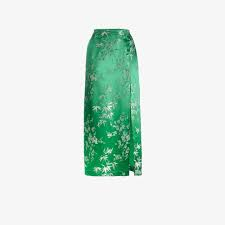C_skirt: (71, 27, 158, 178)
